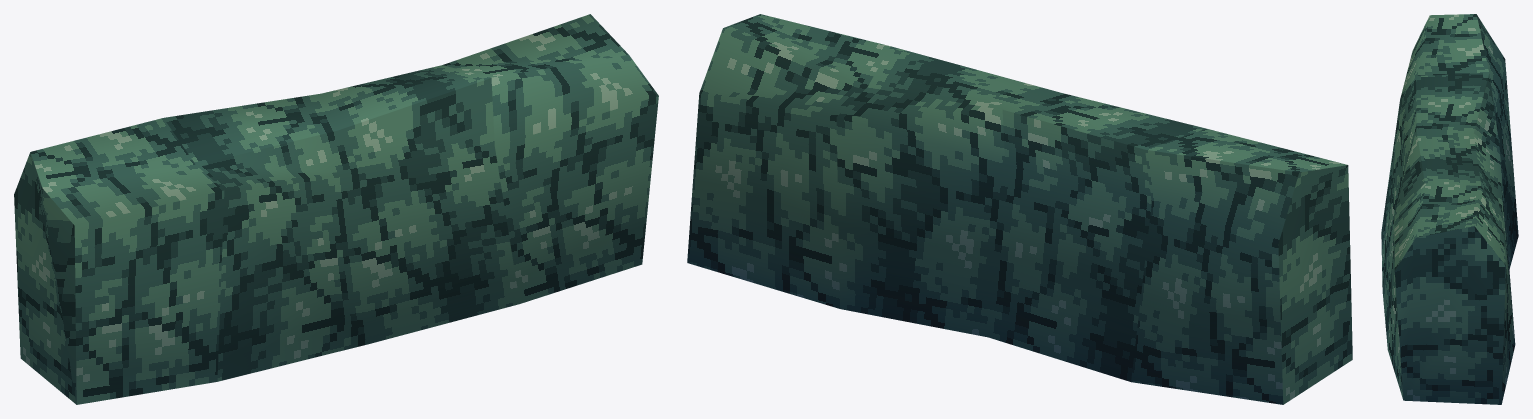
The model's file is mnat.hedgerow.glb.
3 views of the same model, side by side, from view 1: azimuth 30°, elevation 25°; view 2: azimuth 150°, elevation 25°; view 3: azimuth 270°, elevation 25° (orthographic). The views are drawn at different scales.
Visible parts, largest first — view 1: kit_hedge; view 2: kit_hedge; view 3: kit_hedge.
Boxes of the visible parts, x1,y1,x2,y2 form: kit_hedge: (14,14,658,404); kit_hedge: (687,14,1352,404); kit_hedge: (1381,14,1518,404).
Size of the model in its own units: 4.14 by 1.46 by 1.05.
1 material, 1 textured.
